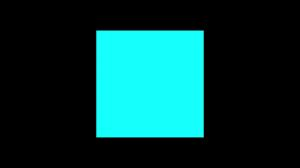cyan_zone: (90, 23, 207, 141)
